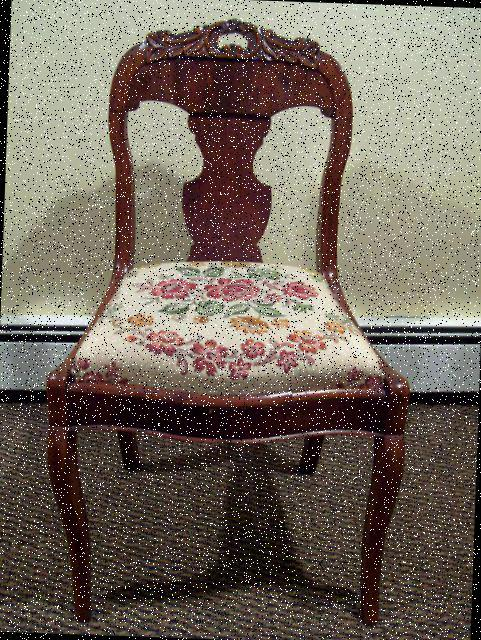Mesa: (32, 6, 426, 638)
